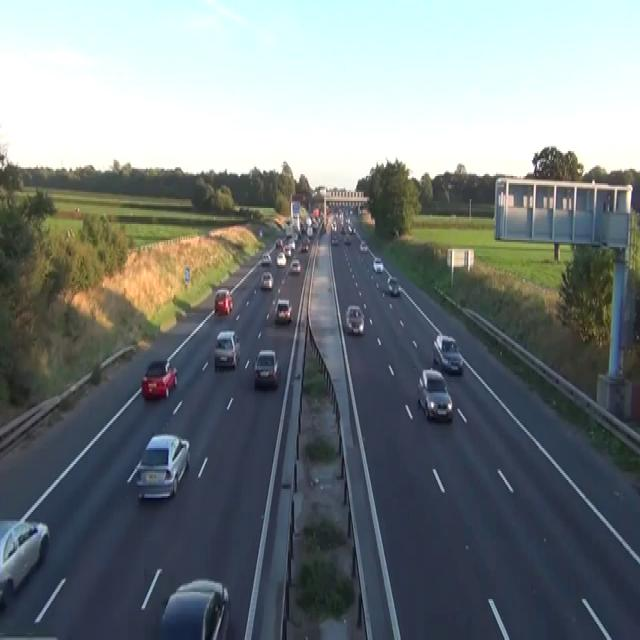Car: (0, 518, 49, 606), (159, 578, 230, 638), (135, 432, 190, 500), (417, 368, 452, 421), (141, 359, 177, 398), (432, 333, 463, 375), (213, 329, 240, 370), (253, 348, 280, 388), (345, 304, 364, 334), (214, 288, 233, 315), (274, 298, 292, 324), (0, 633, 58, 638), (259, 270, 273, 290), (387, 276, 400, 295), (372, 256, 383, 272), (290, 258, 301, 274), (276, 250, 286, 266), (261, 252, 271, 265), (65, 228, 75, 240), (283, 245, 291, 258), (359, 240, 368, 251), (300, 242, 308, 252), (275, 237, 283, 247), (331, 233, 338, 243), (306, 226, 313, 236), (347, 222, 353, 233), (343, 234, 350, 243), (312, 221, 318, 231), (289, 240, 295, 249), (331, 221, 336, 231), (321, 224, 326, 233), (340, 226, 345, 233), (286, 233, 292, 238), (259, 228, 262, 236)
